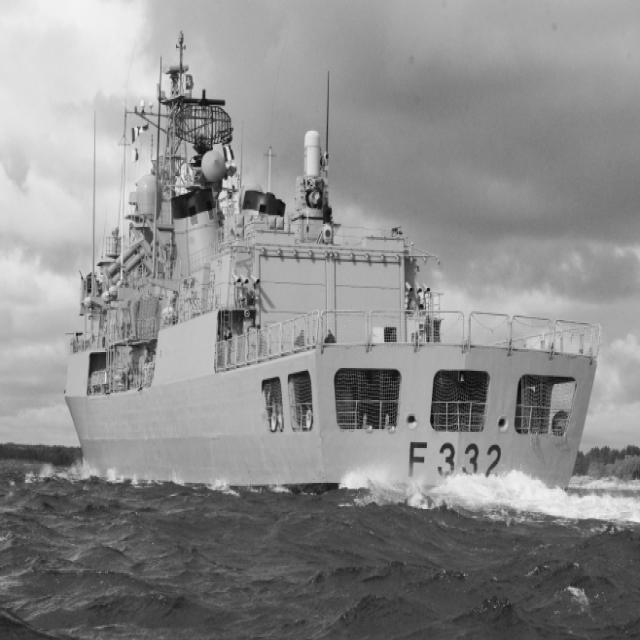Fragata: (58, 20, 602, 514)
